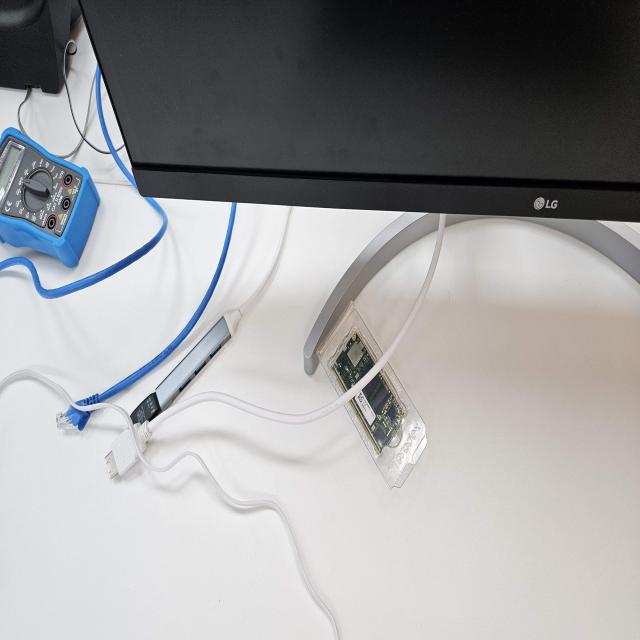som: (327, 324, 409, 479)
